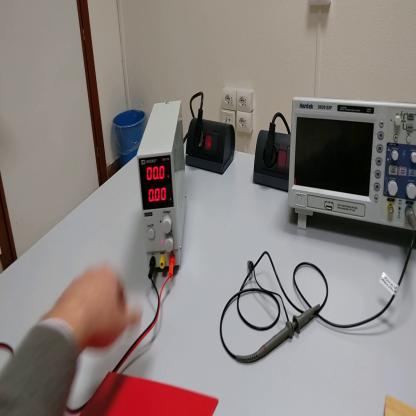hand: (51, 264, 143, 346)
oscilloscope: (287, 97, 416, 235)
oscilloscope probe tip: (238, 304, 325, 373)
power supply: (138, 97, 186, 275)
register: (82, 368, 224, 416)
socket: (186, 119, 237, 176), (252, 124, 290, 194)
working area: (385, 389, 416, 416)
